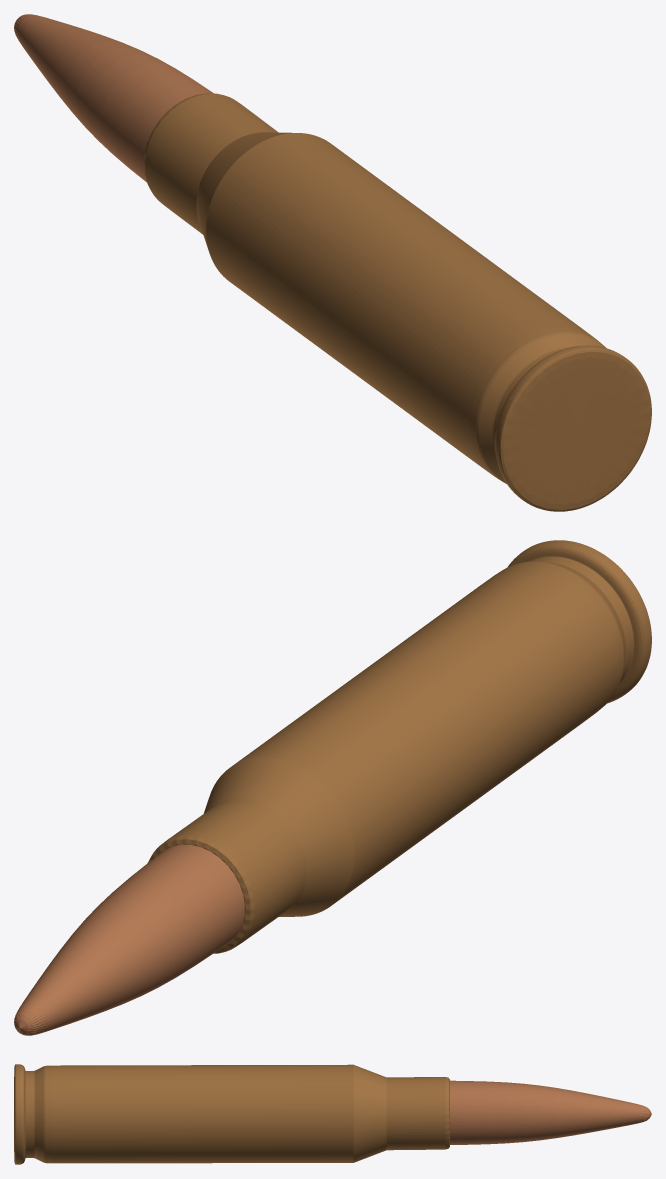
3 views of the same model, one above another, from view 1: azimuth 30°, elevation 25°; view 2: azimuth 150°, elevation 25°; view 3: azimuth 270°, elevation 25° (orthographic). The views are drawn at different scales.
Parts seen in each view (by area): view 1: Cylinder, Cylinder.001; view 2: Cylinder, Cylinder.001; view 3: Cylinder, Cylinder.001.
Part boxes in pixels (box(x1,y1,x2,y2)): Cylinder: box(143, 93, 651, 511); Cylinder.001: box(14, 14, 213, 182); Cylinder: box(148, 540, 651, 953); Cylinder.001: box(14, 844, 244, 1035); Cylinder: box(14, 1064, 449, 1164); Cylinder.001: box(450, 1080, 651, 1144).
Bounding box in the file's own units: 0.8986 × 0.8986 × 5.7.
